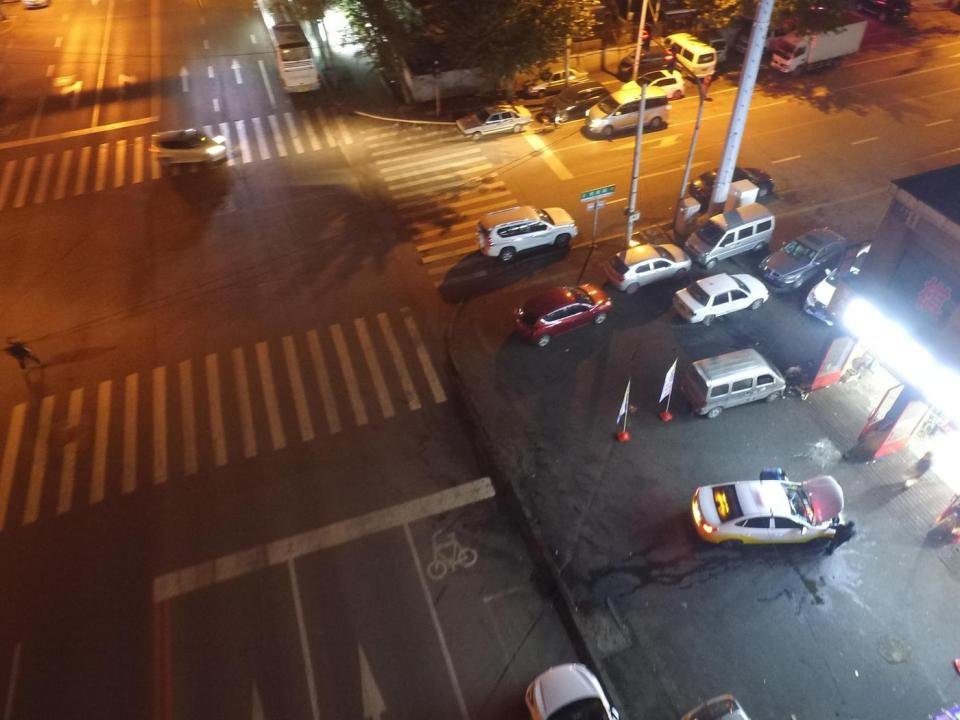bus: (256, 0, 322, 95)
car: (692, 473, 846, 549), (515, 283, 610, 347), (806, 242, 877, 326), (672, 267, 769, 328), (478, 206, 578, 264), (525, 663, 617, 720), (762, 228, 843, 289), (606, 238, 691, 293), (688, 162, 775, 203), (454, 104, 532, 141), (150, 130, 226, 165), (544, 81, 606, 121), (622, 69, 684, 105), (522, 65, 586, 97), (860, 0, 912, 24)
truck: (771, 13, 868, 74), (736, 5, 830, 53)
van: (679, 350, 786, 419), (687, 203, 780, 267), (586, 86, 668, 140), (667, 33, 715, 81), (617, 44, 676, 80), (694, 26, 726, 62)
